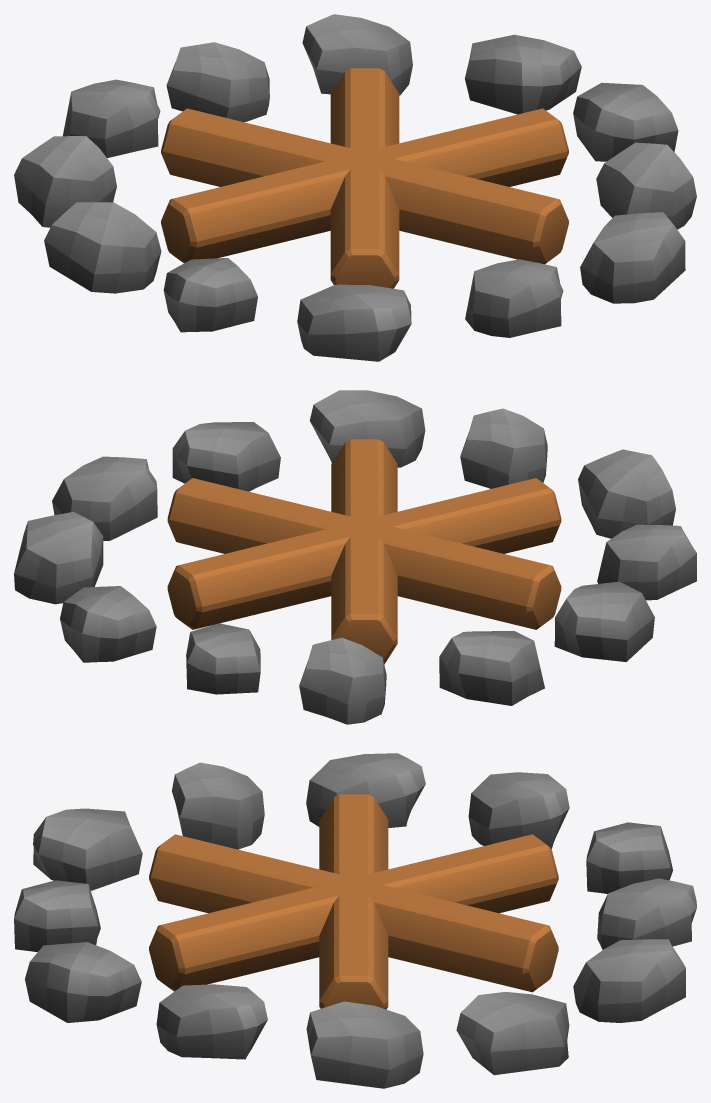
File: FireWood.fbx
3 views of the same model, one above another, from view 1: azimuth 30°, elevation 25°; view 2: azimuth 150°, elevation 25°; view 3: azimuth 270°, elevation 25° (orthographic). The views are drawn at different scales.
Parts seen in each view (by area): view 1: Fire_Wood; view 2: Fire_Wood; view 3: Fire_Wood.
Boxes of the visible parts, <box> form: Fire_Wood: <box>14,14,696,361</box>; Fire_Wood: <box>14,390,696,724</box>; Fire_Wood: <box>14,753,696,1088</box>.
Bounding box in the file's own units: 600 × 54.05 × 587.
